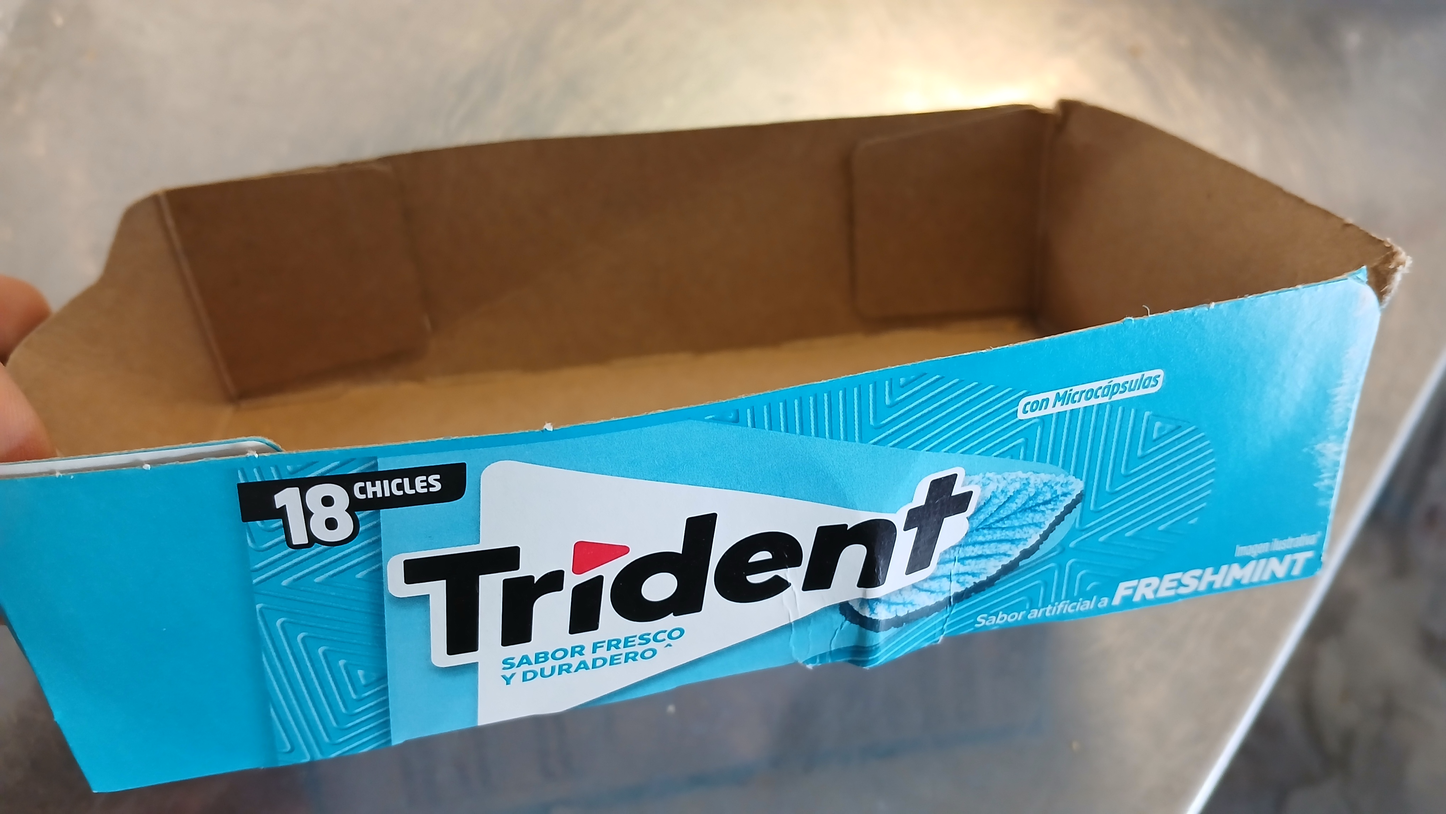Carton: (0, 100, 1411, 794)
